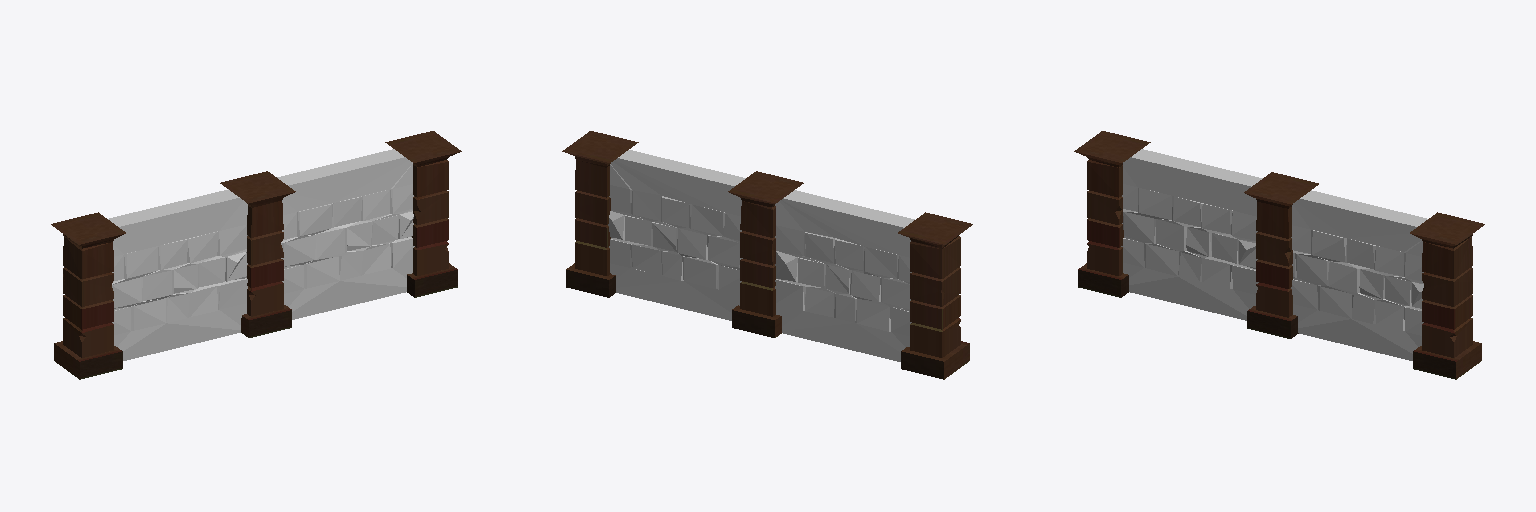
The picture shows the model from 3 angles: view 1: azimuth 30°, elevation 25°; view 2: azimuth 150°, elevation 25°; view 3: azimuth 330°, elevation 25°; orthographic projection.
Visible parts, largest first — view 1: Pilar1.002_Plano.016; view 2: Pilar1.002_Plano.016; view 3: Pilar1.002_Plano.016.
Part boxes in pixels (left/top/right/bottom): Pilar1.002_Plano.016: left=51, top=131, right=461, bottom=379; Pilar1.002_Plano.016: left=562, top=131, right=972, bottom=379; Pilar1.002_Plano.016: left=1074, top=131, right=1484, bottom=379.
Size of the model in its own units: 8.85 by 3.01 by 1.14.
Materials: 2 (1 with a texture image).